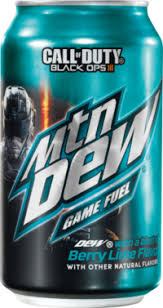can: (1, 2, 162, 308)
